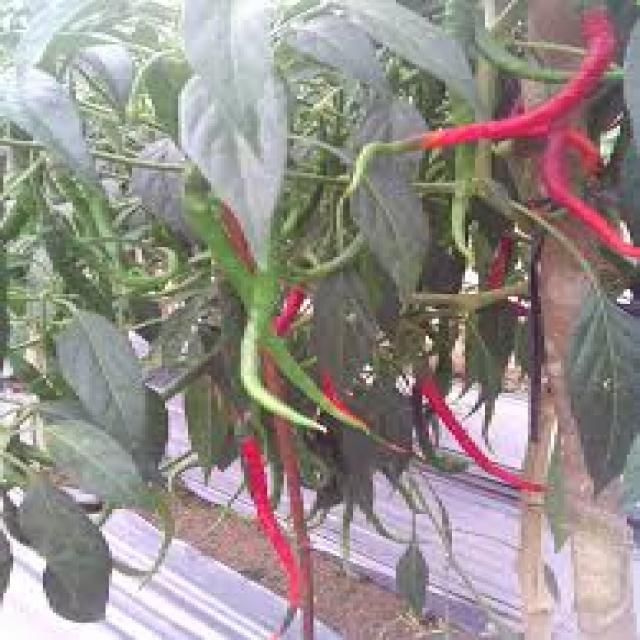sehat: (165, 56, 343, 275), (550, 296, 640, 508), (332, 147, 462, 293), (62, 288, 174, 455)
